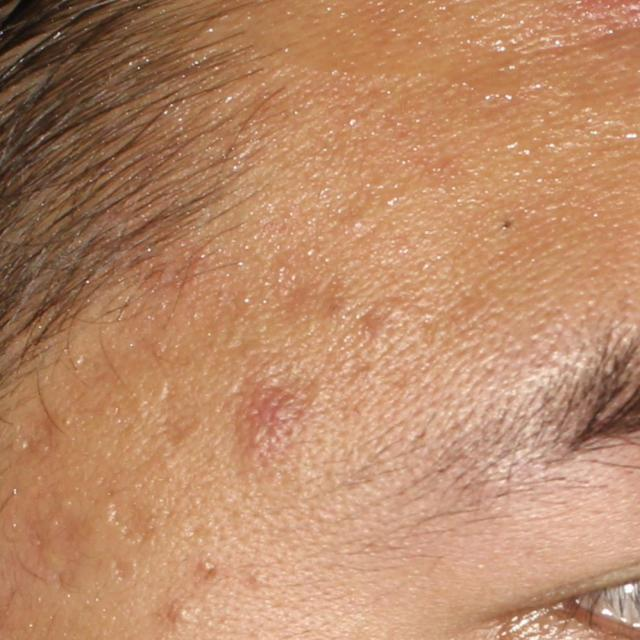nodule: (236, 384, 304, 462)
